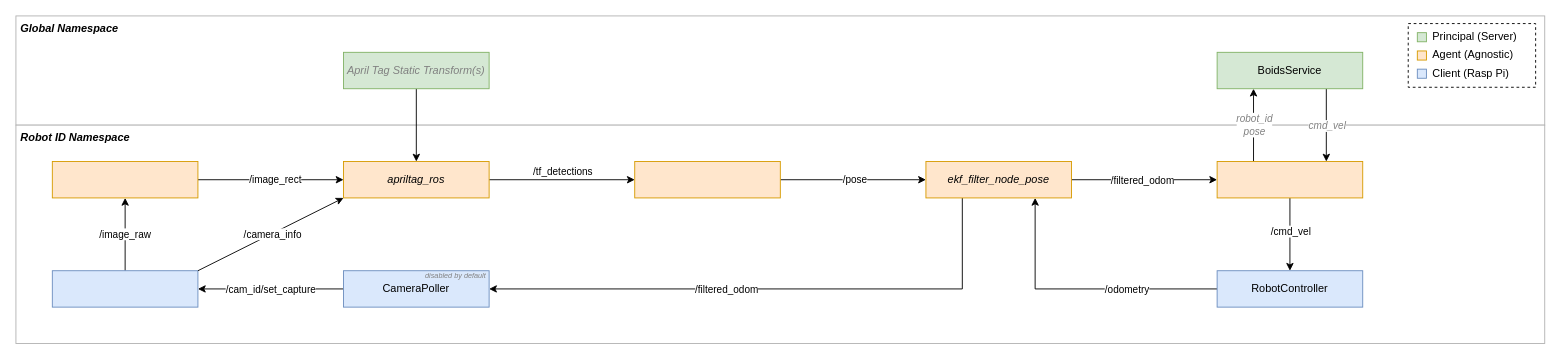
Some shapes in this 1561 by 359 pixel diagram are drawn without their labels. The centre of each missing label's shape, as x and y in pixels:
"image_proc::RectifyNode" belongs at (x=124, y=179).
"MovementController" belongs at (x=1289, y=179).
"TransformConverter" belongs at (x=707, y=179).
"usb_cam_node_exe" belongs at (x=124, y=288).
